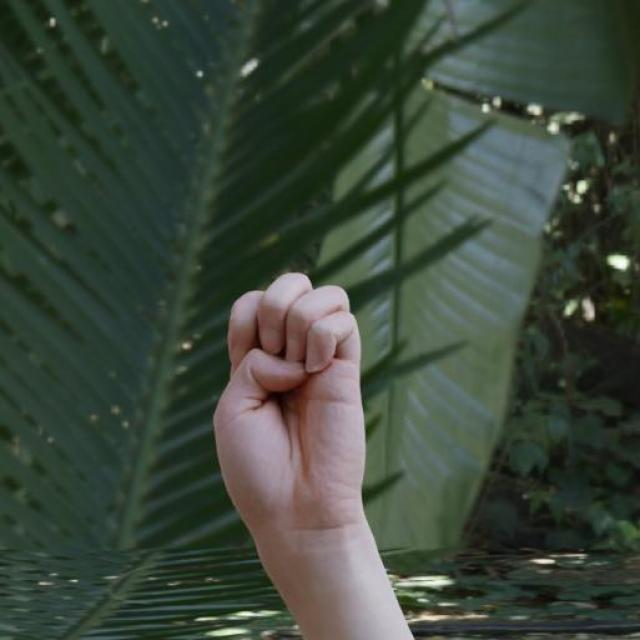E: (209, 268, 369, 544)
